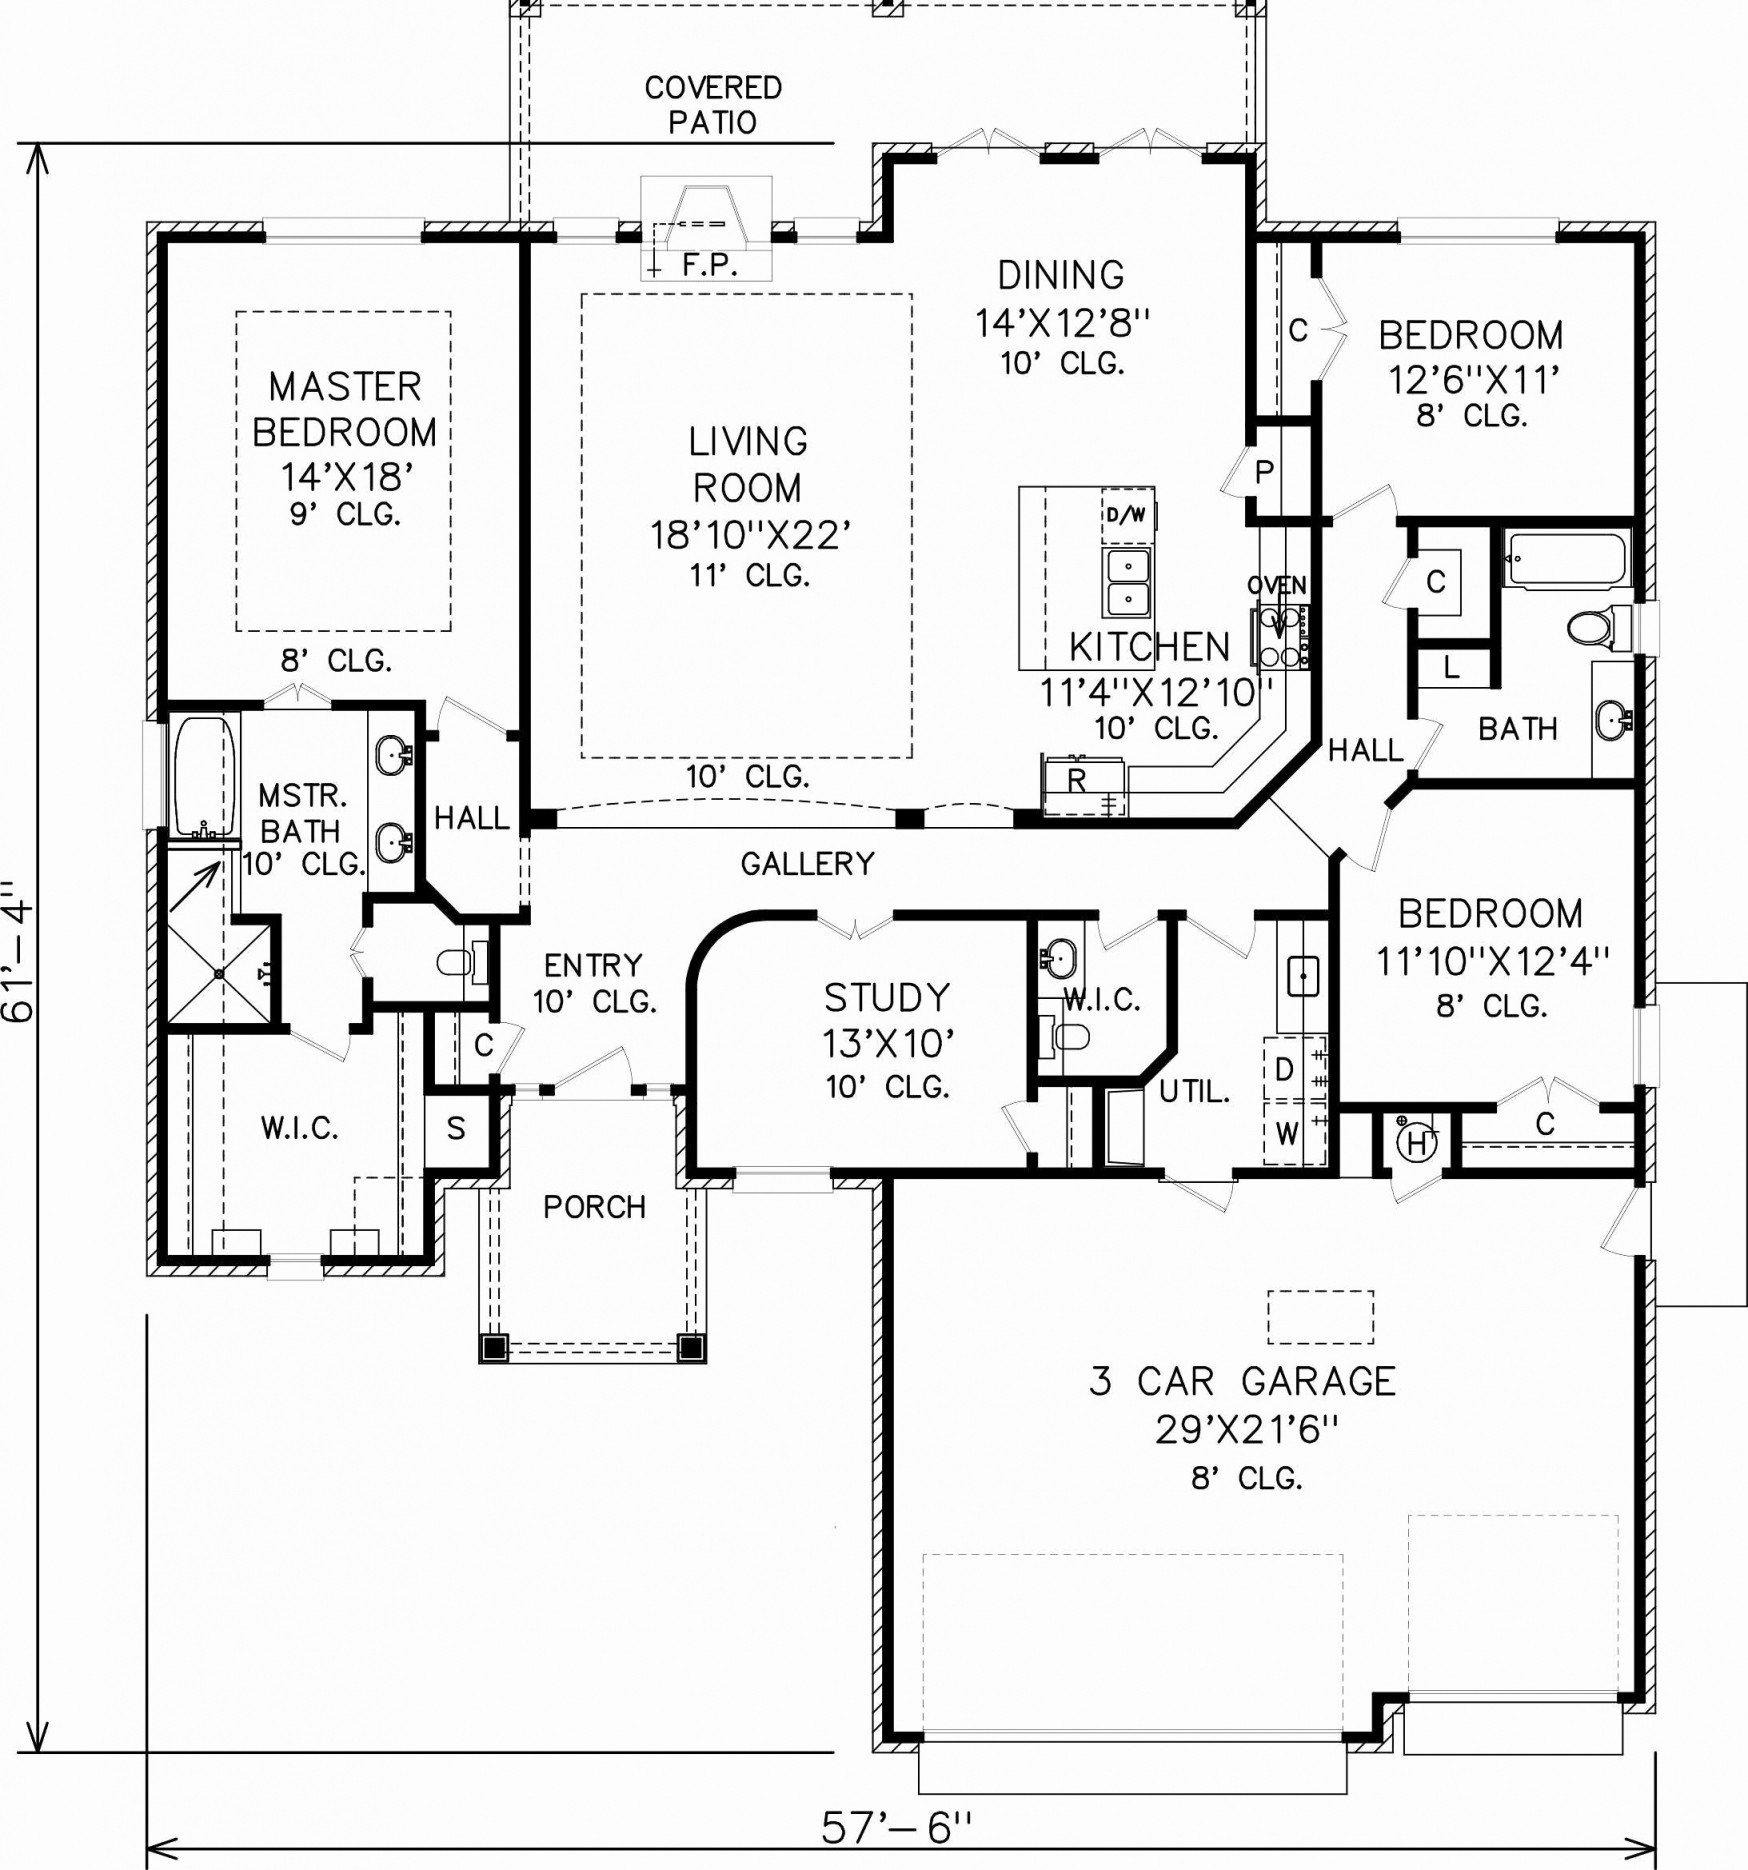room: (1040, 140, 1099, 168)
wall: (874, 1191, 895, 1752), (146, 225, 168, 720), (1636, 1259, 1658, 1693), (517, 253, 531, 835), (1635, 238, 1659, 524), (1631, 779, 1658, 1002), (145, 828, 169, 1035), (146, 1039, 166, 1277), (678, 922, 708, 1076), (1309, 527, 1327, 736), (1635, 656, 1659, 789), (1239, 242, 1257, 419), (713, 904, 815, 932), (156, 220, 264, 245), (427, 222, 536, 246), (1014, 817, 1242, 828), (1410, 777, 1635, 789), (324, 1255, 444, 1277), (1025, 919, 1038, 1098), (158, 1255, 268, 1277), (1552, 222, 1659, 243), (885, 1163, 1038, 1178), (1165, 915, 1181, 1052), (416, 703, 427, 896), (1495, 513, 1635, 527), (1327, 925, 1339, 1104), (675, 1103, 698, 1190), (1631, 524, 1658, 600), (1488, 524, 1505, 643), (1630, 1085, 1649, 1181), (1250, 219, 1318, 246), (429, 1167, 511, 1188), (1318, 223, 1403, 243), (493, 1094, 513, 1177), (872, 141, 892, 222), (322, 698, 425, 713), (427, 1167, 444, 1259), (1446, 1099, 1467, 1167), (831, 1167, 892, 1190), (168, 1024, 287, 1035), (894, 909, 1032, 919), (427, 1083, 517, 1098), (166, 698, 263, 712), (1245, 164, 1267, 223), (889, 138, 940, 161), (453, 912, 532, 927), (1207, 143, 1267, 163), (1309, 429, 1322, 518), (273, 927, 284, 1027), (490, 927, 501, 1020), (1232, 1168, 1337, 1178), (1393, 518, 1497, 527), (1373, 1099, 1387, 1177), (1096, 1088, 1107, 1172), (422, 1014, 435, 1086), (1345, 1734, 1393, 1753), (1035, 1168, 1106, 1181), (695, 1167, 734, 1190), (522, 227, 559, 251), (361, 891, 427, 904), (1101, 1165, 1166, 1178), (1028, 909, 1099, 920), (432, 1001, 491, 1014), (1410, 643, 1419, 721), (859, 219, 890, 243), (1418, 639, 1493, 649), (1382, 1101, 1456, 1111), (1331, 1111, 1342, 1173), (1373, 1693, 1391, 1732), (1244, 417, 1313, 427), (1252, 910, 1332, 919), (232, 914, 281, 927), (363, 978, 375, 1034), (375, 1002, 430, 1014), (1446, 1172, 1641, 1175), (1405, 606, 1419, 649), (1620, 1694, 1654, 1712), (1401, 526, 1418, 564), (1337, 1103, 1377, 1117), (1249, 518, 1319, 526), (1239, 496, 1255, 531), (1313, 381, 1326, 424), (894, 1734, 923, 1752), (1046, 1080, 1101, 1089), (774, 222, 798, 243), (1106, 1075, 1145, 1088), (1456, 1103, 1495, 1116), (616, 225, 642, 243), (670, 1088, 695, 1104), (1388, 1693, 1408, 1712), (1313, 242, 1321, 286), (1331, 868, 1337, 922), (1028, 1157, 1043, 1178), (1493, 643, 1500, 690), (1595, 1104, 1631, 1112), (361, 904, 373, 927), (348, 1024, 366, 1035), (539, 1083, 555, 1094), (521, 905, 529, 927), (632, 1085, 646, 1098)
